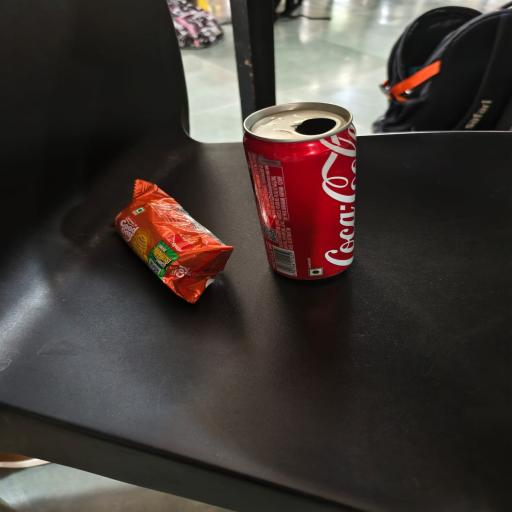coca_cola: (244, 103, 356, 281)
goodday: (113, 179, 233, 302)
